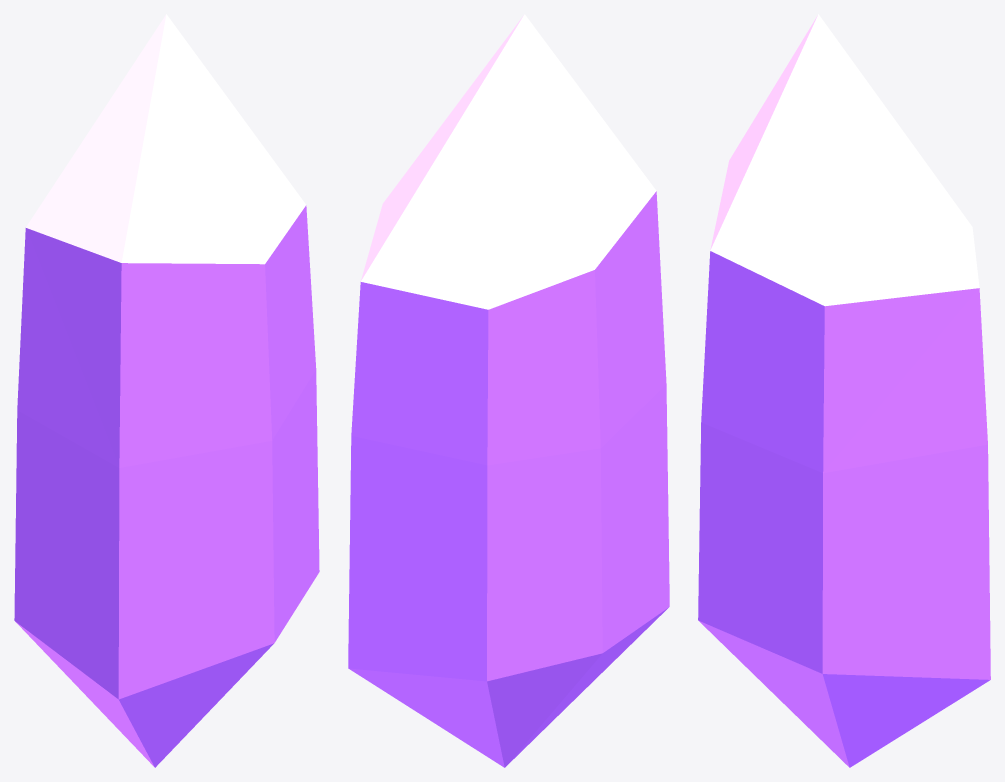
File: Shard_Small.fbx
The picture shows the model from 3 angles, left to right: view 1: azimuth 30°, elevation 25°; view 2: azimuth 150°, elevation 25°; view 3: azimuth 270°, elevation 25°; orthographic projection. The views are drawn at different scales.
Parts seen in each view (by area): view 1: Shard_Small; view 2: Shard_Small; view 3: Shard_Small.
Part boxes in pixels (x1,y1,x2,y2): Shard_Small: [14, 14, 319, 767]; Shard_Small: [348, 14, 669, 767]; Shard_Small: [698, 14, 990, 767].
Bounding box in the file's own units: 0.0926 × 0.25 × 0.0882.
